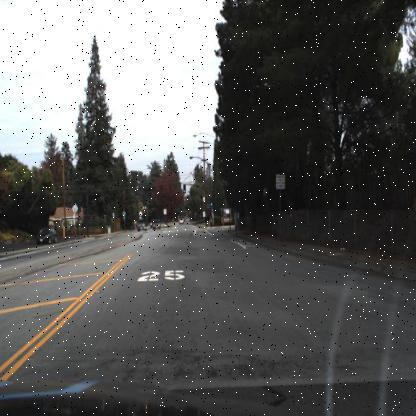car: (34, 223, 59, 248), (149, 216, 163, 231), (134, 216, 146, 232)
trafficLight-Green: (181, 180, 189, 195), (209, 193, 215, 209)
trafficLight-RedLeft: (141, 208, 147, 220)
